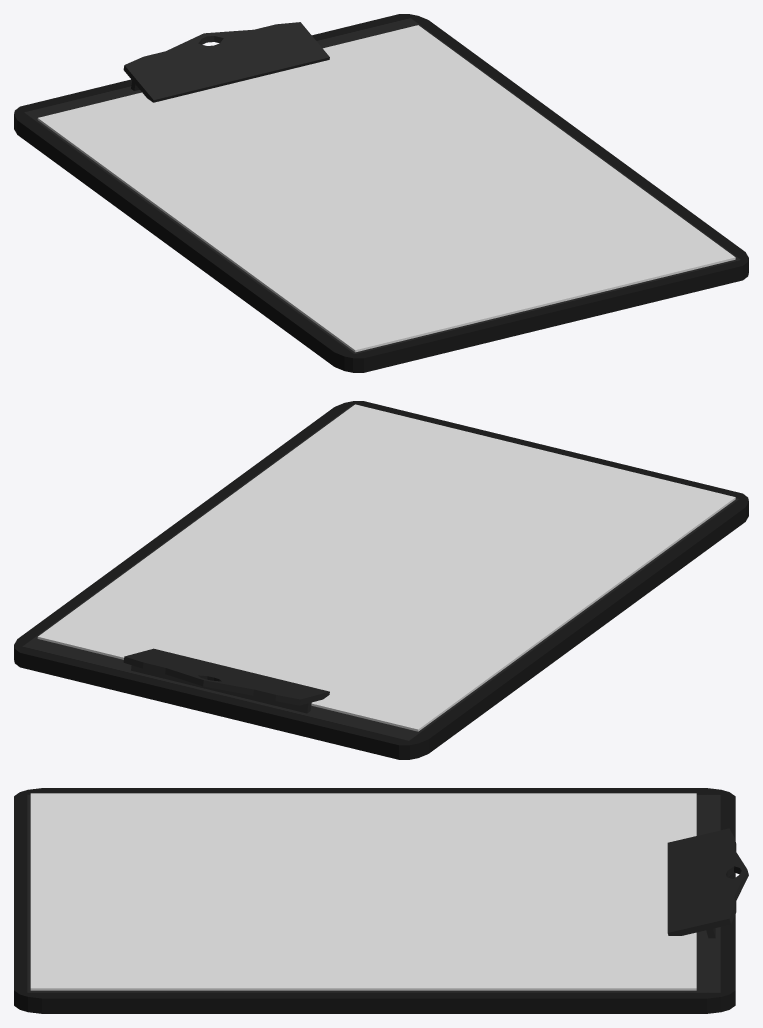
Rendered from Clipboard.fbx.
3 renders of one model, top to bottom at view 1: azimuth 30°, elevation 25°; view 2: azimuth 150°, elevation 25°; view 3: azimuth 270°, elevation 25°, orthographic. The views are drawn at different scales.
Visible parts, largest first — view 1: Plane, Cube, Cube.001; view 2: Plane, Cube, Cube.001; view 3: Plane, Cube, Cube.001.
Boxes of the visible parts, <box> form: Plane: <box>37,25,735,352</box>; Cube: <box>14,14,748,372</box>; Cube.001: <box>123,22,329,102</box>; Plane: <box>37,404,735,731</box>; Cube: <box>14,401,748,759</box>; Cube.001: <box>123,648,329,713</box>; Plane: <box>30,793,696,990</box>; Cube: <box>14,788,735,1013</box>; Cube.001: <box>667,828,748,938</box>.
Bounding box in the file's own units: 197 × 17.2 × 291.
